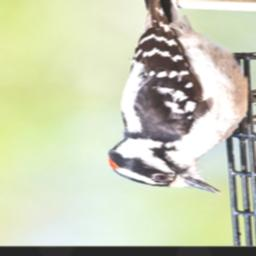Woodpecker: (102, 0, 256, 194)
